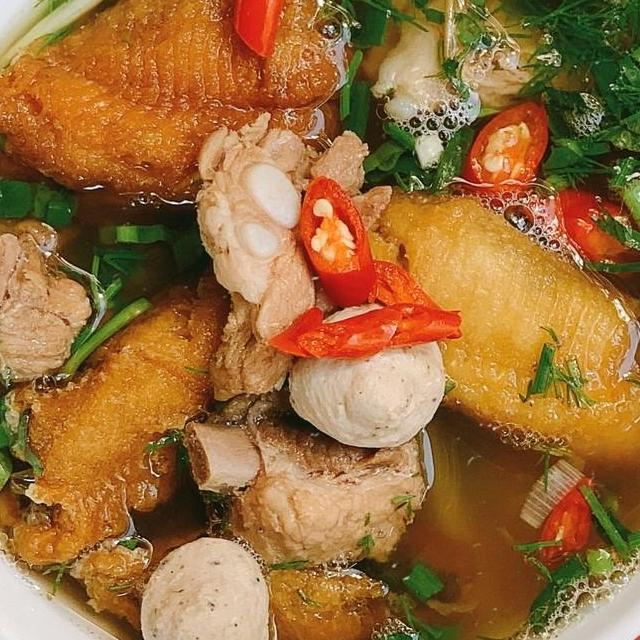ca: (317, 167, 640, 481), (0, 251, 253, 588), (0, 0, 371, 214)
thit heo: (178, 105, 400, 433), (221, 403, 437, 579), (0, 214, 102, 391)
